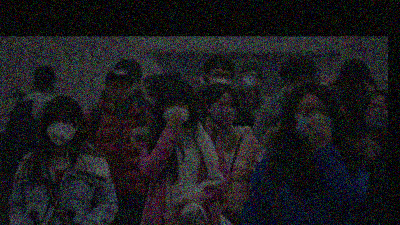with_mask: (294, 100, 337, 142), (44, 113, 79, 148), (160, 100, 193, 128), (208, 100, 237, 125), (362, 102, 387, 130), (344, 82, 369, 109), (206, 70, 234, 88), (240, 73, 259, 91)
without_mask: (105, 81, 132, 105), (284, 74, 312, 97)
